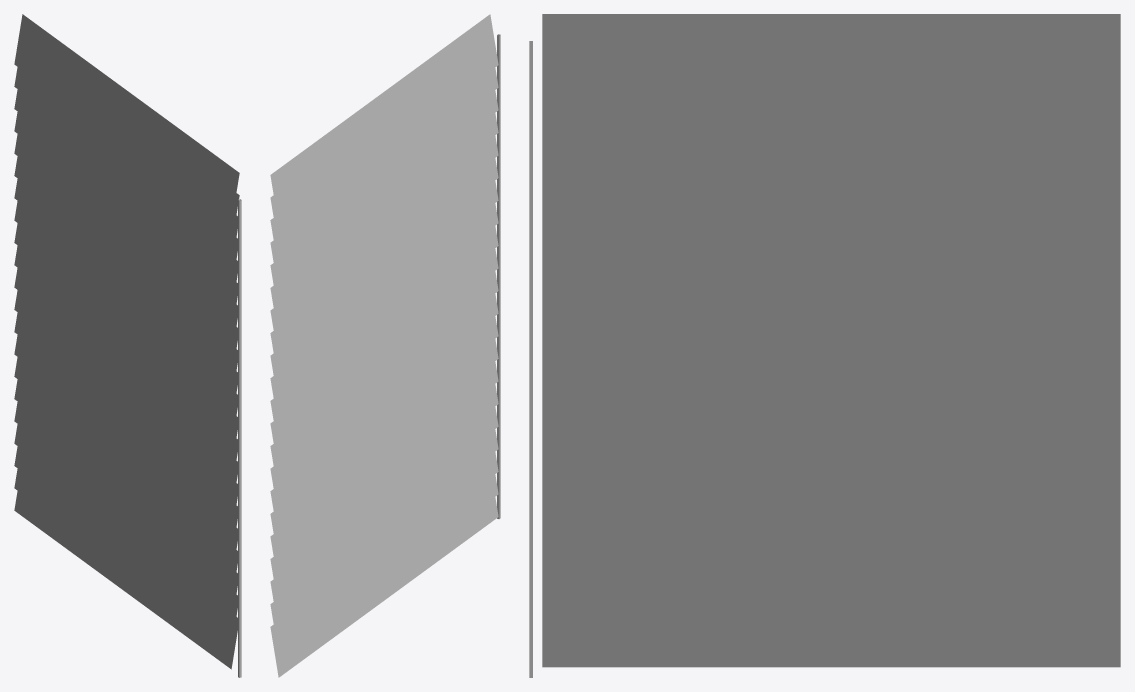
File: pj_01_blind_80.FBX
The picture shows the model from 3 angles, left to right: view 1: azimuth 30°, elevation 25°; view 2: azimuth 150°, elevation 25°; view 3: azimuth 270°, elevation 25°; orthographic projection. The views are drawn at different scales.
Visible parts, largest first — view 1: 80; view 2: 80; view 3: 80.
Part boxes in pixels (bbox=[...]): 80: bbox=[14, 14, 241, 677]; 80: bbox=[270, 14, 500, 677]; 80: bbox=[529, 14, 1120, 677].
Size of the model in its own units: 1.74 by 102 by 81.79.
